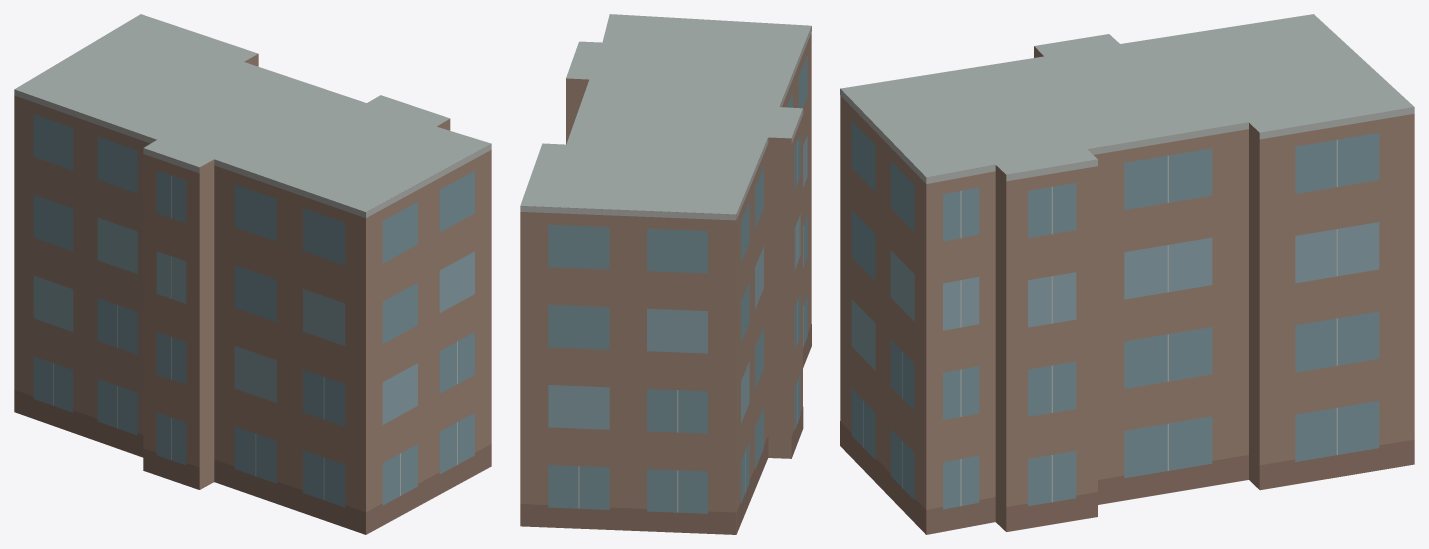
The model's file is survey-upis-32754690.glb.
3 renders of one model, left to right at view 1: azimuth 30°, elevation 25°; view 2: azimuth 150°, elevation 25°; view 3: azimuth 270°, elevation 25°, orthographic. The views are drawn at different scales.
Parts seen in each view (by area): view 1: survey-upis-32754690.tmp; view 2: survey-upis-32754690.tmp; view 3: survey-upis-32754690.tmp.
Boxes of the visible parts, x1=… form: survey-upis-32754690.tmp: x1=14, y1=14, x2=491, y2=534; survey-upis-32754690.tmp: x1=520, y1=14, x2=811, y2=534; survey-upis-32754690.tmp: x1=840, y1=14, x2=1414, y2=534.
Size of the model in its own units: 12.76 by 13 by 18.94.
